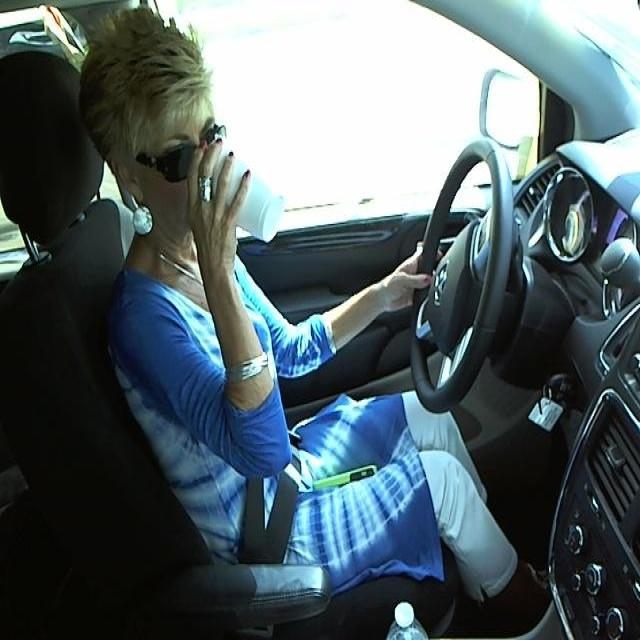Seatbelt: (198, 144, 283, 241)
